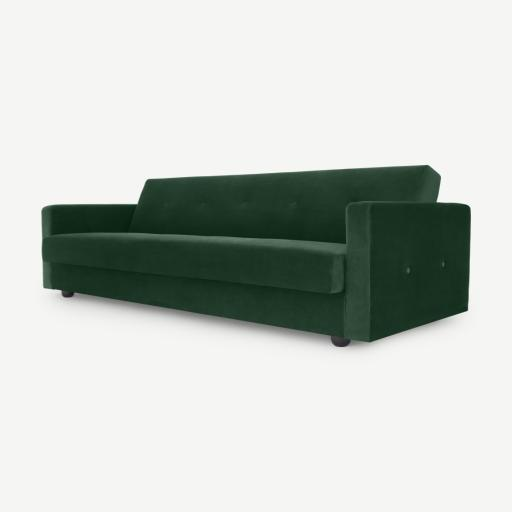back_cushion: (129, 165, 440, 243)
base: (49, 263, 344, 335)
left_arm: (341, 202, 470, 341)
legs: (332, 336, 350, 347), (61, 290, 74, 298)
right_arm: (42, 205, 135, 239), (43, 263, 52, 288)
seat_cushion: (43, 233, 346, 294)
two-seater: (0, 0, 511, 512)
